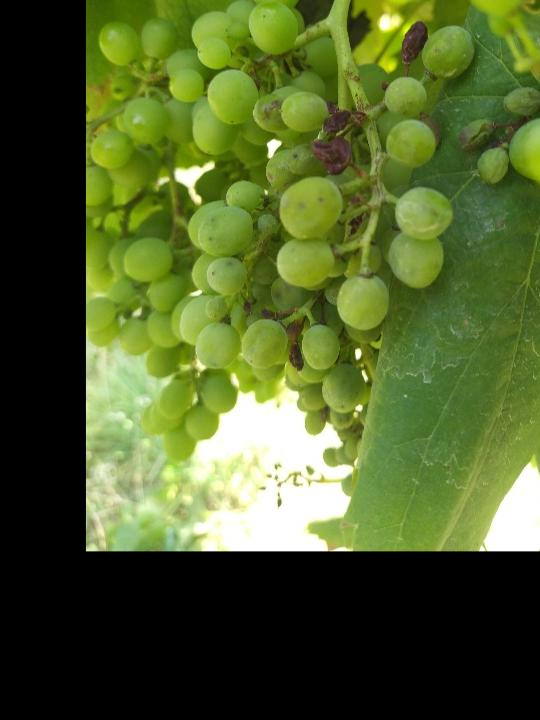grape: (185, 0, 476, 418)
